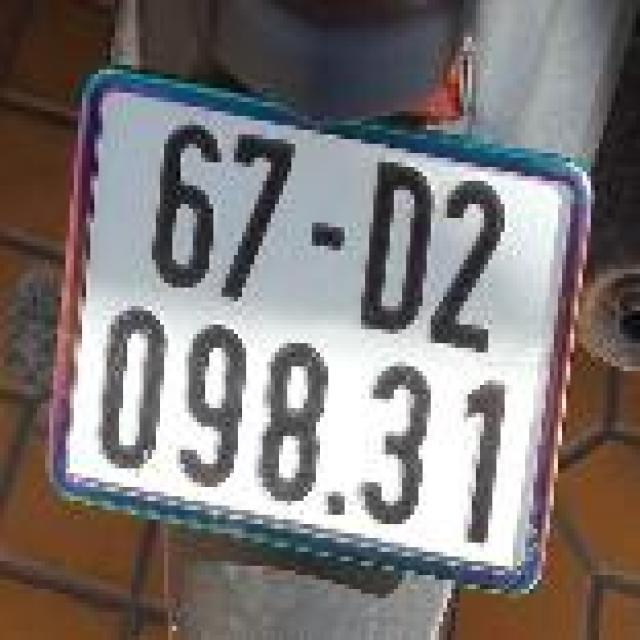0: (88, 295, 176, 486)
1: (441, 369, 520, 557)
2: (416, 171, 523, 369)
3: (349, 352, 440, 539)
6: (140, 117, 234, 306)
7: (211, 125, 299, 313)
8: (253, 330, 334, 517)
9: (167, 312, 255, 503)
D: (348, 150, 445, 351)
